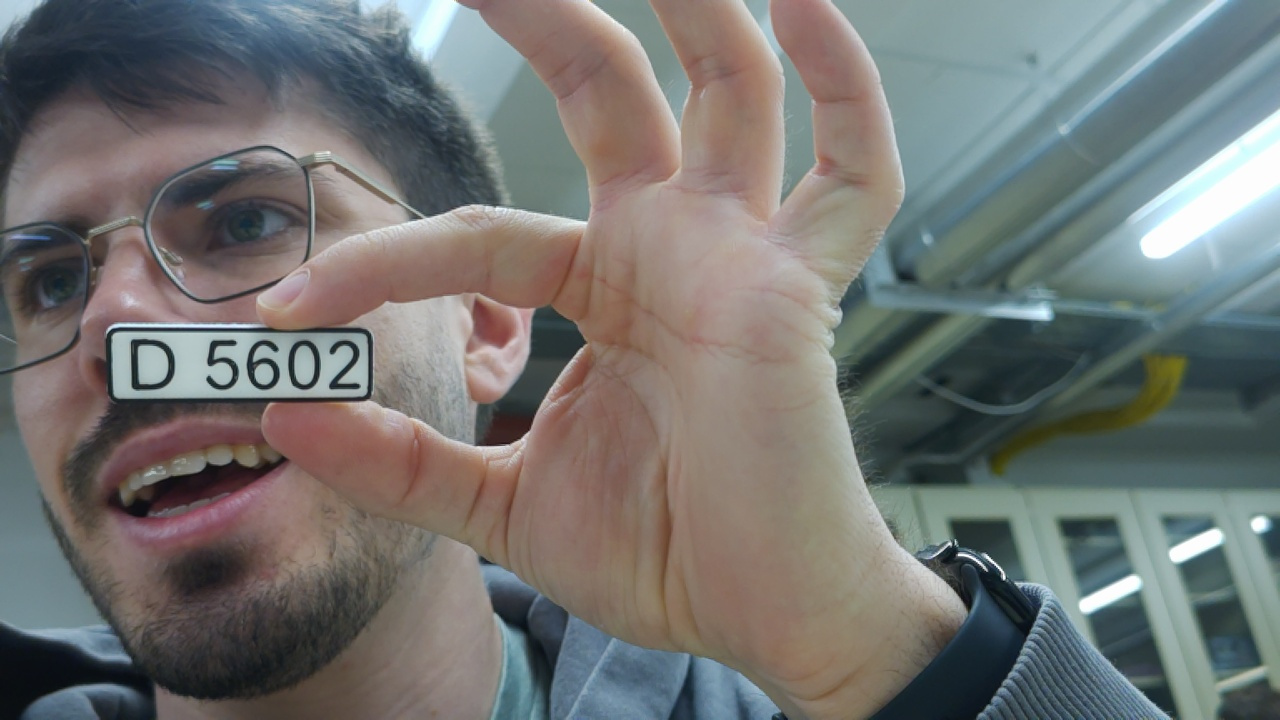license_plate: (97, 312, 381, 409)
